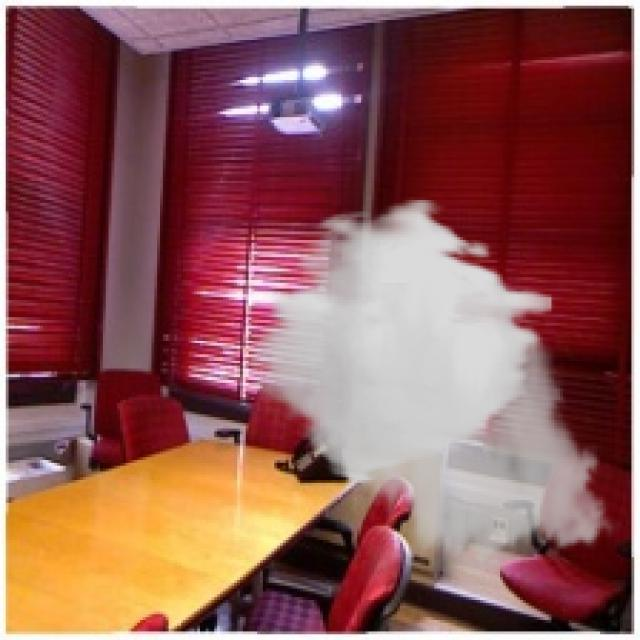Smoke: (251, 197, 623, 572)
